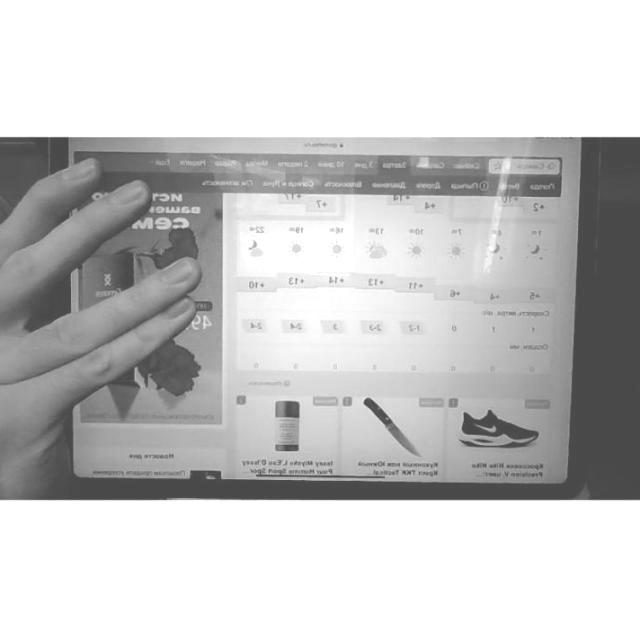fake: (54, 136, 600, 498)
